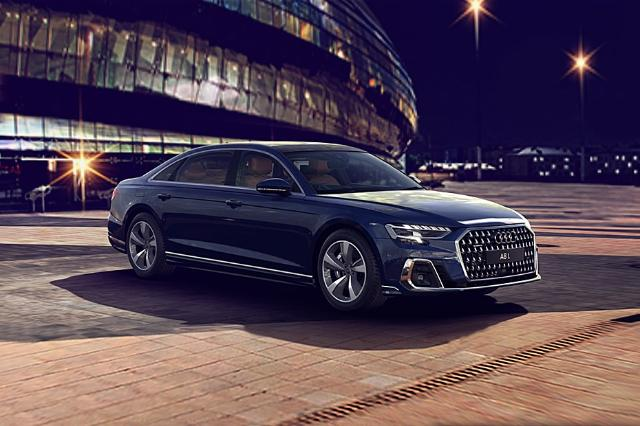audi: (106, 141, 542, 314)
